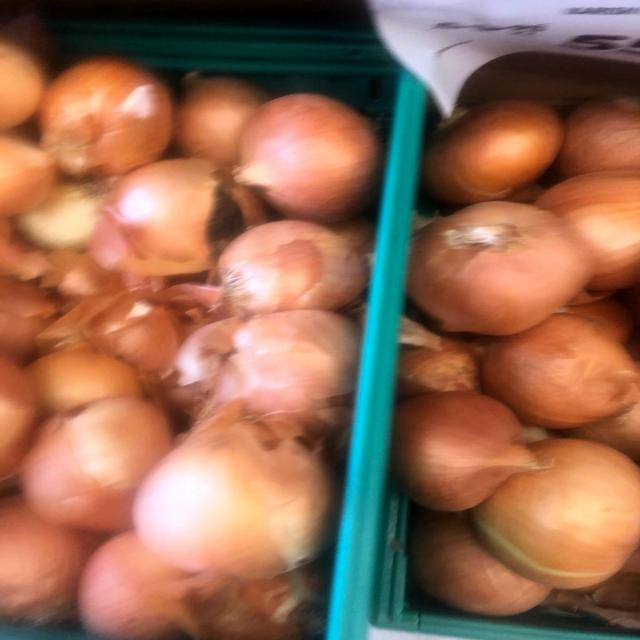onion: (407, 195, 590, 338), (396, 386, 549, 519), (211, 222, 372, 317)
